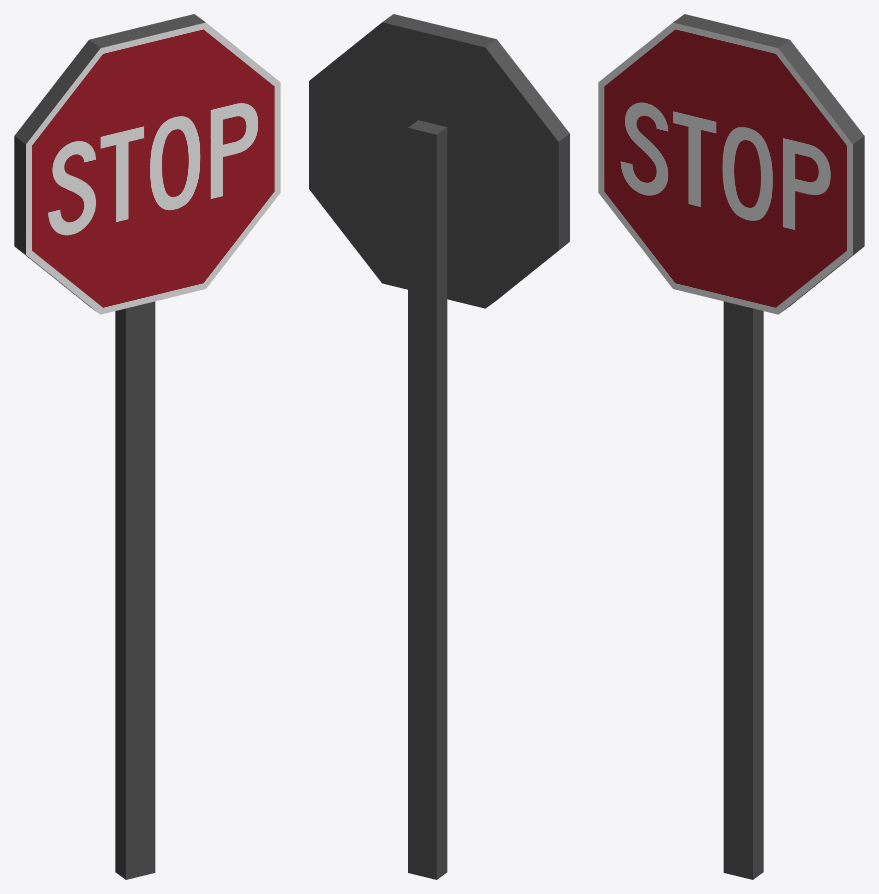
The model's file is stop-sign.fbx.
The picture shows the model from 3 angles, left to right: view 1: azimuth 30°, elevation 25°; view 2: azimuth 150°, elevation 25°; view 3: azimuth 330°, elevation 25°; orthographic projection. The views are drawn at different scales.
Parts seen in each view (by area): view 1: StopSign; view 2: StopSign; view 3: StopSign.
Part boxes in pixels (<box>): StopSign: <box>14,14,280,879</box>; StopSign: <box>309,14,569,879</box>; StopSign: <box>598,14,864,879</box>.
Bounding box in the file's own units: 253 × 808 × 40.02.
